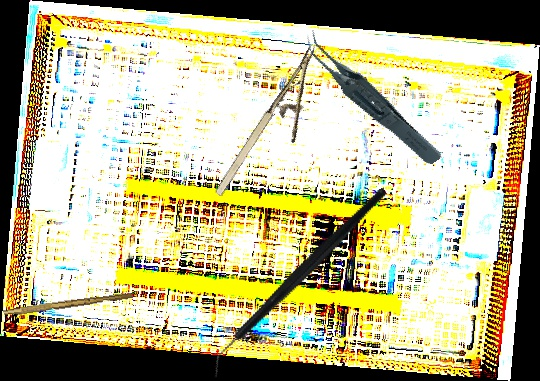Chopper: (171, 187, 427, 379)
Needle Holder: (210, 43, 346, 214)
Scalpel Handle: (3, 289, 133, 320)
Tissue Forceps: (301, 8, 444, 186)
